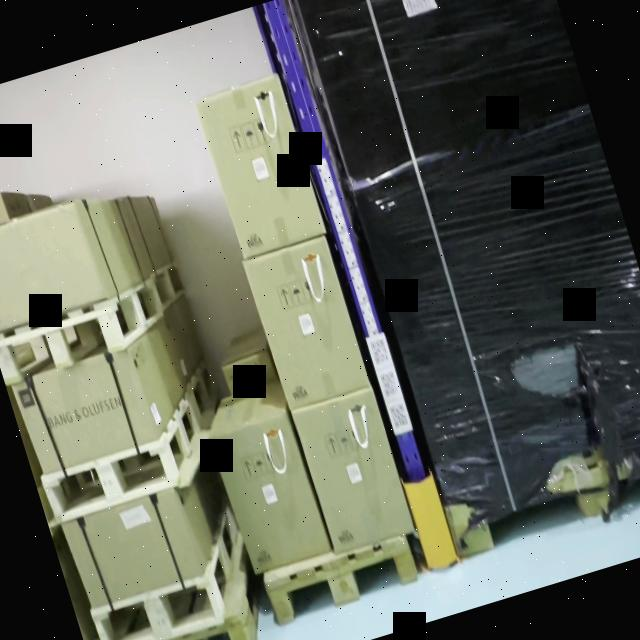box: (195, 74, 327, 258), (244, 238, 369, 406), (293, 392, 414, 550), (214, 419, 332, 578)
